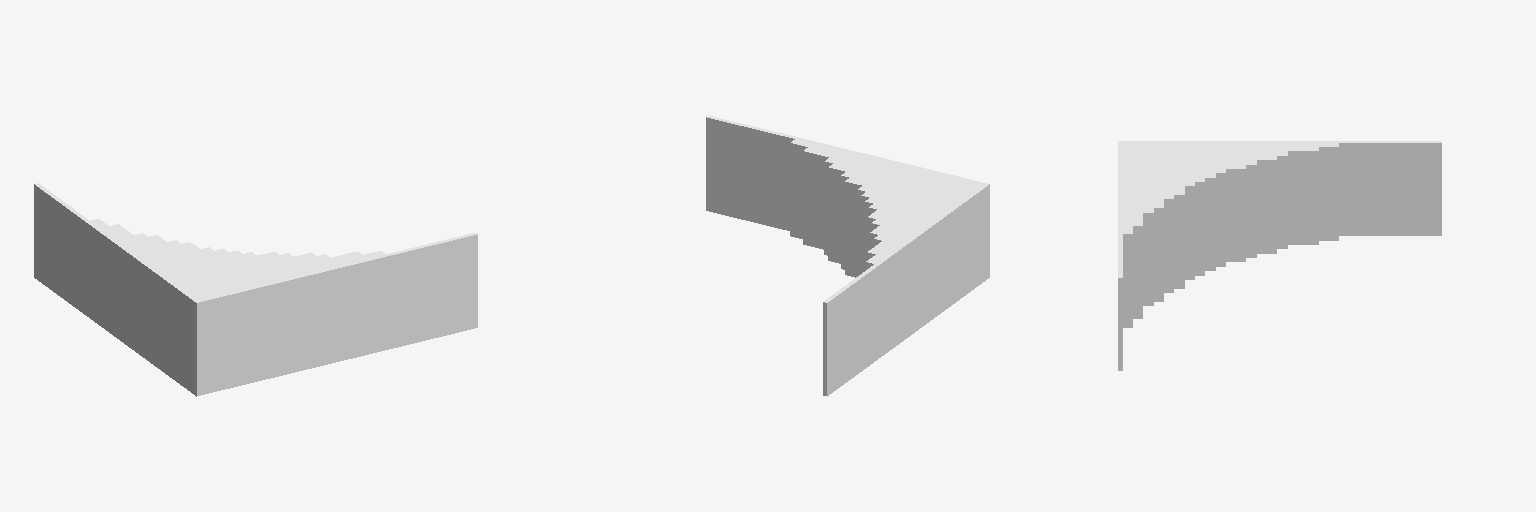
File: MushroomDaddyInterior_01-4.obj
3 renders of one model, left to right at view 1: azimuth 30°, elevation 25°; view 2: azimuth 150°, elevation 25°; view 3: azimuth 270°, elevation 25°, orthographic.
Parts seen in each view (by area): view 1: MushroomDaddyInterior_01-4; view 2: MushroomDaddyInterior_01-4; view 3: MushroomDaddyInterior_01-4.
Boxes of the visible parts, x1,y1,x2,y2 form: MushroomDaddyInterior_01-4: [34, 183, 477, 396]; MushroomDaddyInterior_01-4: [706, 115, 989, 396]; MushroomDaddyInterior_01-4: [1118, 141, 1441, 370].
Size of the model in its own units: 126 by 40 by 126.